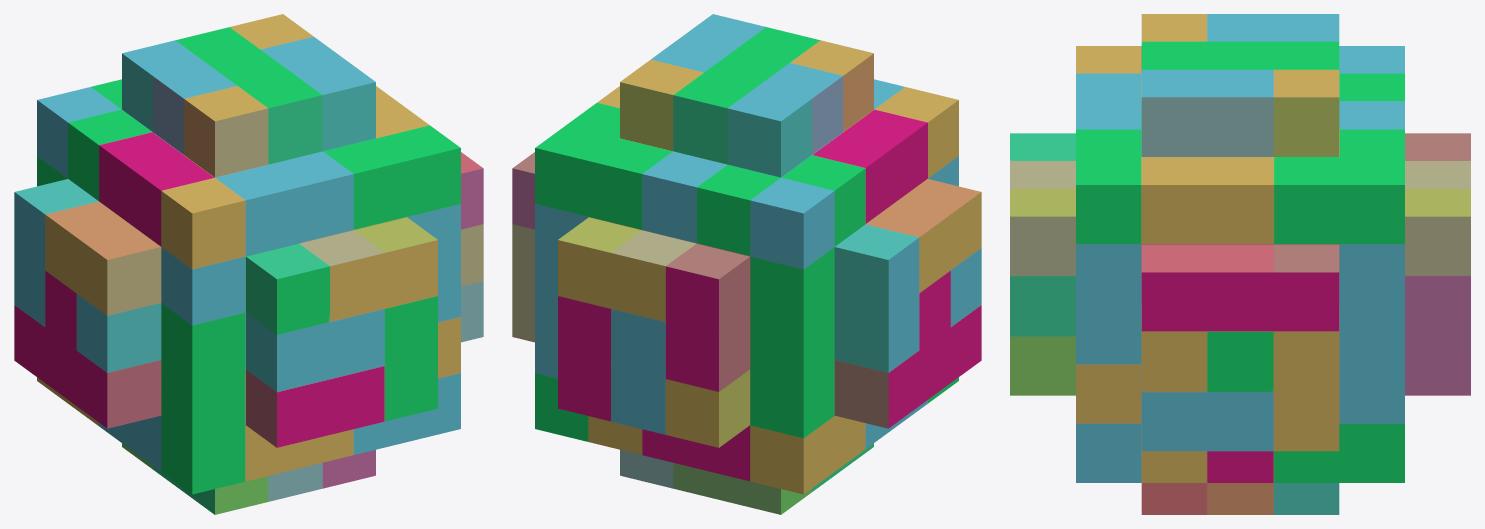
File: block_ball.glb
3 renders of one model, left to right at view 1: azimuth 30°, elevation 25°; view 2: azimuth 150°, elevation 25°; view 3: azimuth 270°, elevation 25°, orthographic. The views are drawn at different scales.
Visible parts, largest first — view 1: Cube; view 2: Cube; view 3: Cube.
Part boxes in pixels (left/top/right/bottom): Cube: left=14, top=14, right=483, bottom=514; Cube: left=512, top=14, right=981, bottom=514; Cube: left=1010, top=14, right=1470, bottom=514.
Bounding box in the file's own units: 2.8 × 2.8 × 2.8.
Materials: 1 (1 with a texture image).
